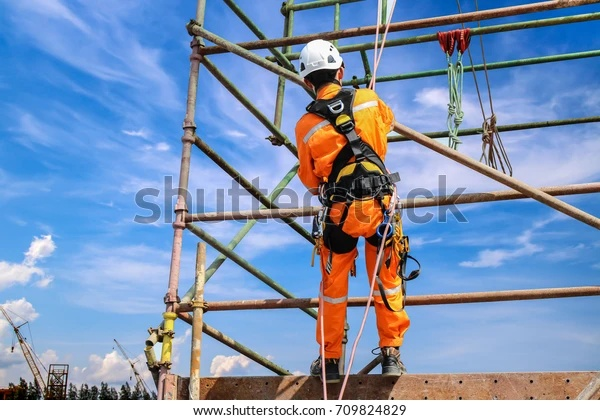Helmet: (293, 38, 344, 78)
Person: (283, 34, 427, 391)
Safety_Harness: (299, 89, 394, 252)
Safety_shoes: (379, 348, 411, 379), (310, 359, 345, 386)
